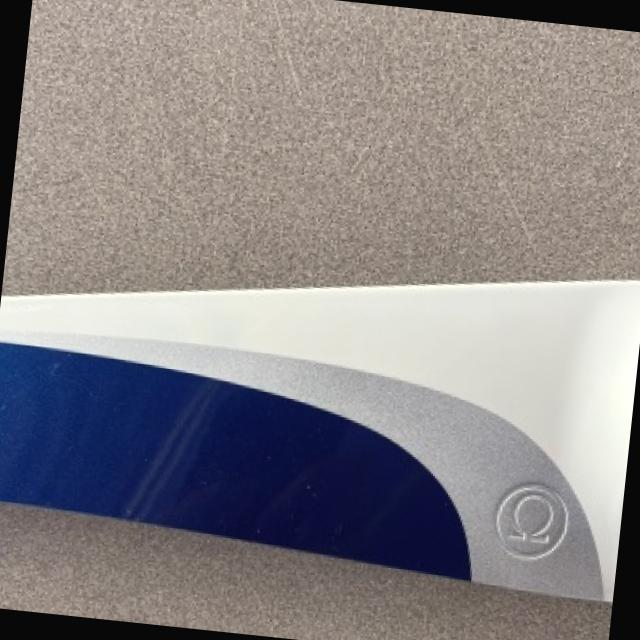healthy: (0, 281, 640, 599)
